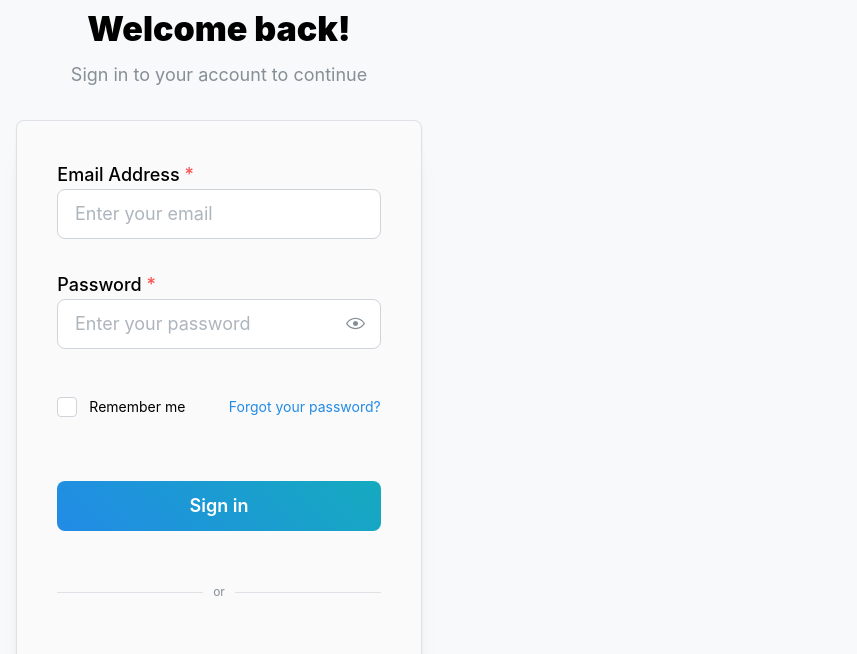
Scenario: Login Form with Fixtures › should login successfully with valid user from fixtures
// Use fixture data for testing
Type "user@example.com" into the field with placeholder "Enter your email" at (219, 214), box [57,189,380,239]
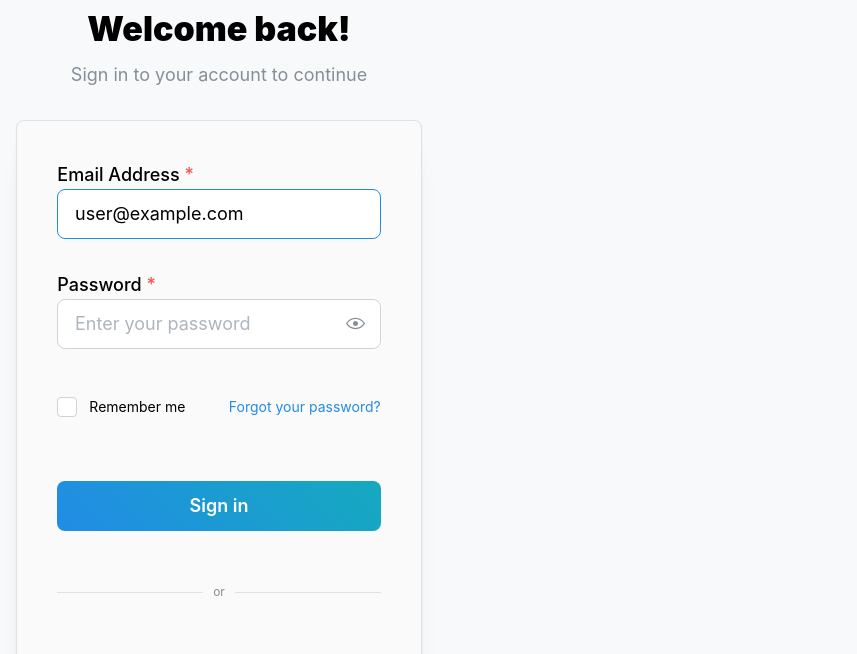
Type "password123" into the password field with placeholder "Enter your password" at (219, 324), box [58,300,379,348]
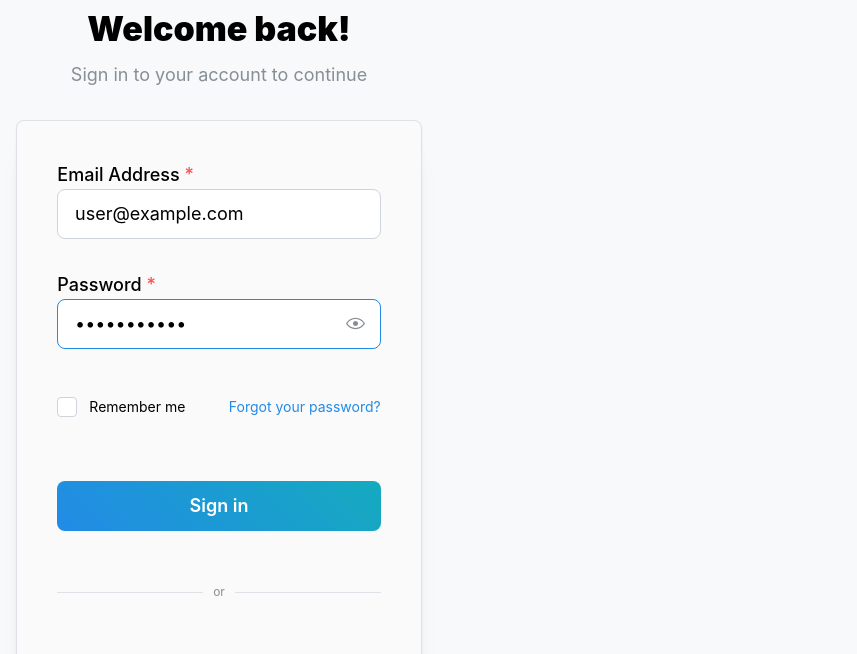
Click the submit button at (219, 506), box [57,481,380,531]
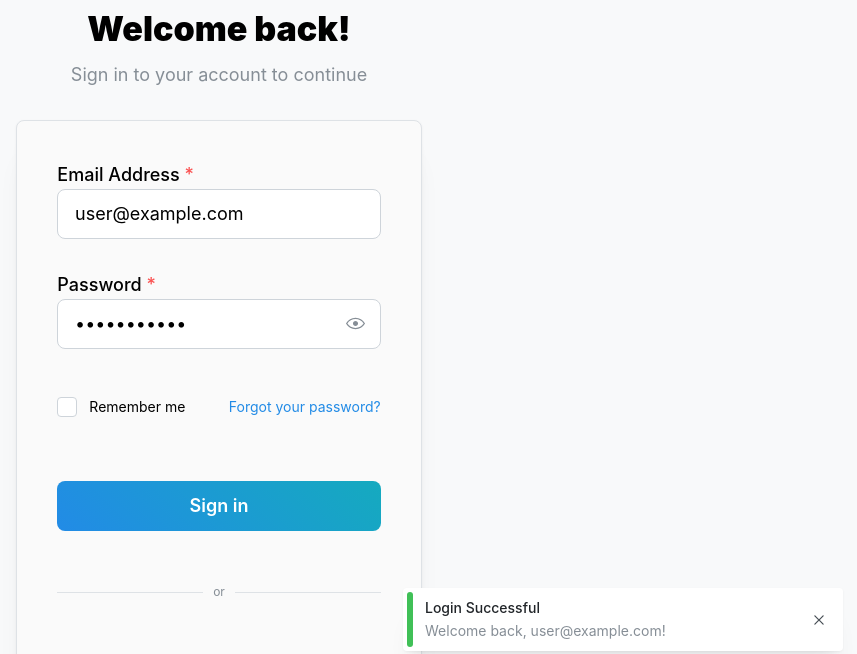
Now the text "Login Successful" is shown, box [425,599,540,616]
